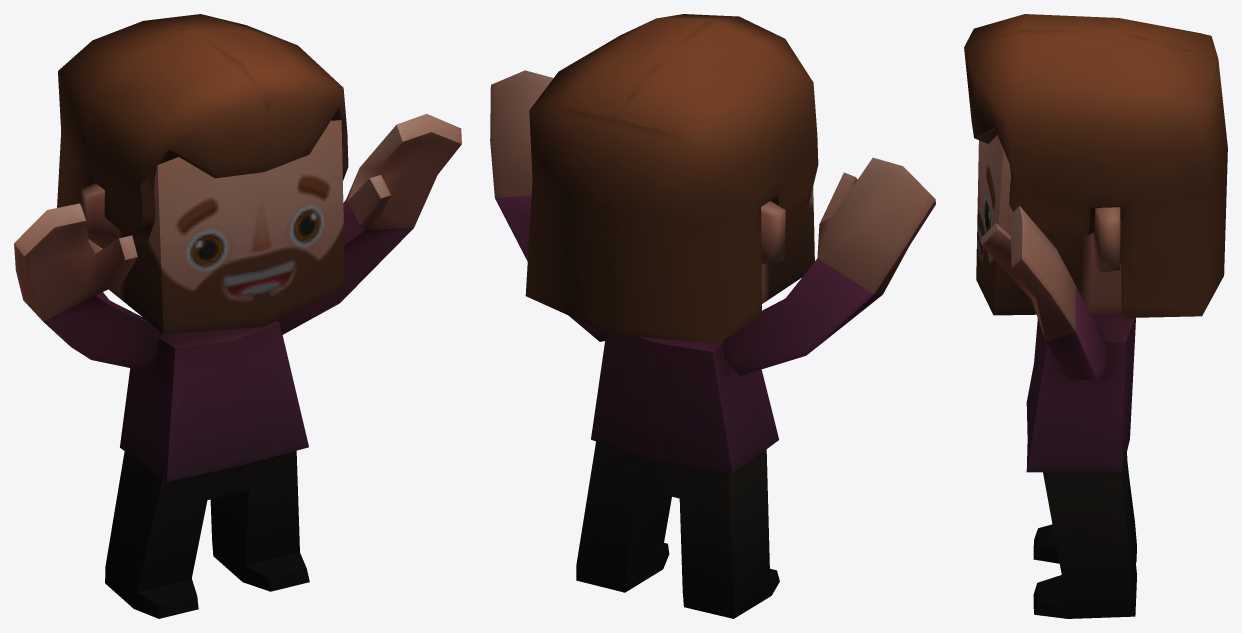
The model's file is Crowd_Var2_FINAL.FBX.
The picture shows the model from 3 angles, left to right: view 1: azimuth 30°, elevation 25°; view 2: azimuth 150°, elevation 25°; view 3: azimuth 270°, elevation 25°; orthographic projection.
Parts seen in each view (by area): view 1: Crowd_Var2_FINAL; view 2: Crowd_Var2_FINAL; view 3: Crowd_Var2_FINAL.
Part boxes in pixels (<box>): Crowd_Var2_FINAL: <box>14,14,461,618</box>; Crowd_Var2_FINAL: <box>490,14,935,618</box>; Crowd_Var2_FINAL: <box>964,14,1227,618</box>.
Bounding box in the file's own units: 1.94 × 2.24 × 0.9779.
